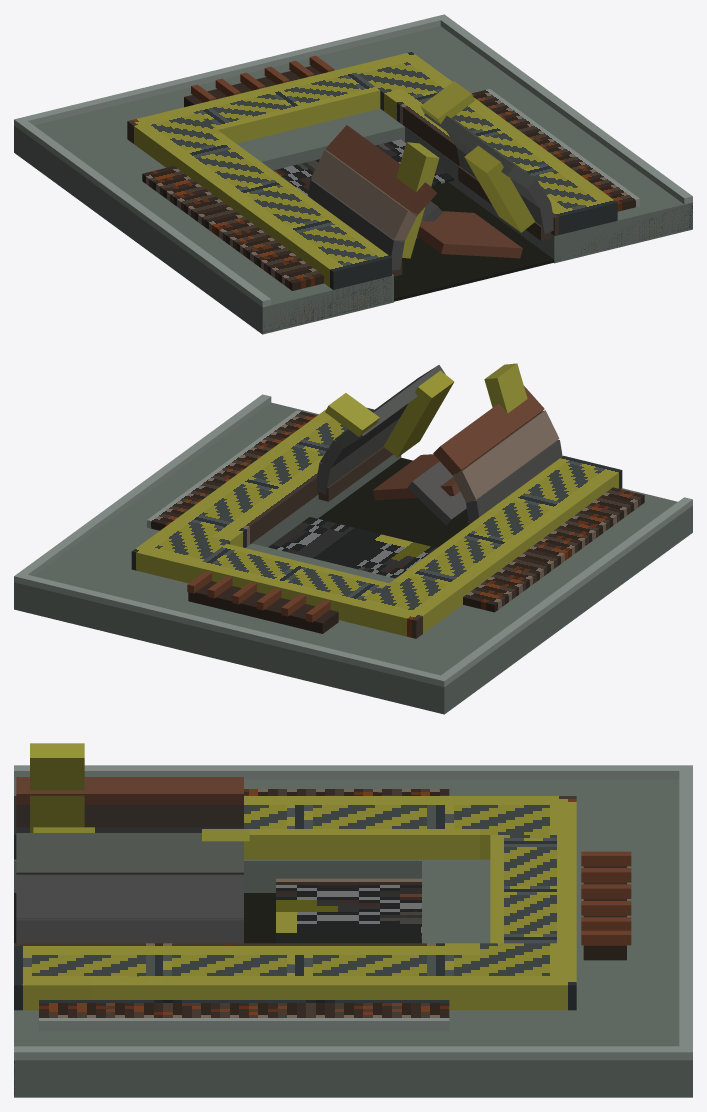
The model's file is CMU3DFiltrationDistributionDamaged.glb.
3 views of the same model, one above another, from view 1: azimuth 30°, elevation 25°; view 2: azimuth 150°, elevation 25°; view 3: azimuth 270°, elevation 25° (orthographic). The views are drawn at different scales.
Parts seen in each view (by area): view 1: left solid deck, left hazard rail, right solid deck, broken hood remnant (×6), right hazard rail, rear hazard cross rail, recessed intake shadow bed, left copper return channel, rear solid deck, rear pale rim, left pale rim, right pale rim (+9 smaller); view 2: left solid deck, right solid deck, left hazard rail, right hazard rail, broken hood remnant (×6), rear solid deck, rear hazard cross rail, left copper return channel, rear screen recess, recessed intake shadow bed, rear pale rim, left pale rim (+9 smaller); view 3: right solid deck, broken hood remnant (×6), right hazard rail, left hazard rail, left solid deck, right copper return channel, rear solid deck, right pale rim, rear screen recess, rear hazard cross rail, left pale rim, rear copper manifold rib (×6) (+6 smaller).
Boxes of the visible parts, x1,y1,x2,y2 form: left solid deck: [14, 97, 393, 334]; left hazard rail: [127, 107, 391, 289]; right solid deck: [317, 26, 692, 263]; broken hood remnant (×6): [308, 113, 553, 270]; right hazard rail: [349, 52, 617, 235]; rear hazard cross rail: [186, 67, 380, 143]; recessed intake shadow bed: [394, 182, 554, 301]; left copper return channel: [142, 166, 323, 290]; rear solid deck: [151, 58, 404, 170]; rear pale rim: [14, 14, 448, 128]; left pale rim: [19, 121, 271, 307]; right pale rim: [440, 18, 692, 204]; left solid deck: [313, 488, 692, 714]; right solid deck: [14, 402, 401, 643]; left hazard rail: [357, 455, 622, 638]; right hazard rail: [131, 408, 374, 583]; broken hood remnant (×6): [316, 365, 562, 524]; rear solid deck: [152, 543, 395, 682]; rear hazard cross rail: [195, 543, 388, 624]; left copper return channel: [463, 487, 644, 612]; rear screen recess: [268, 517, 436, 578]; recessed intake shadow bed: [318, 457, 468, 547]; rear pale rim: [14, 572, 449, 687]; left pale rim: [441, 497, 692, 683]; right solid deck: [14, 968, 692, 1097]; broken hood remnant (×6): [16, 777, 243, 943]; right hazard rail: [14, 943, 576, 1010]; left hazard rail: [14, 796, 576, 859]; left solid deck: [14, 779, 679, 892]; right copper return channel: [39, 1000, 449, 1031]; rear solid deck: [422, 861, 679, 967]; right pale rim: [14, 1046, 679, 1060]; rear screen recess: [276, 878, 421, 943]; rear hazard cross rail: [490, 835, 576, 943]; left pale rim: [14, 765, 679, 779]; rear copper manifold rib (×6): [581, 851, 631, 945].
Size of the model in its own units: 2.98 by 0.8738 by 2.98.
Materials: 20 (8 with a texture image).
